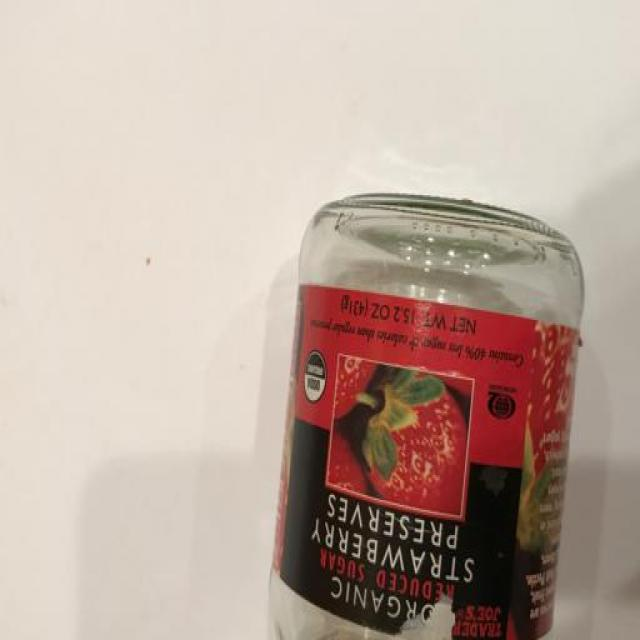glass: (227, 162, 640, 640)
